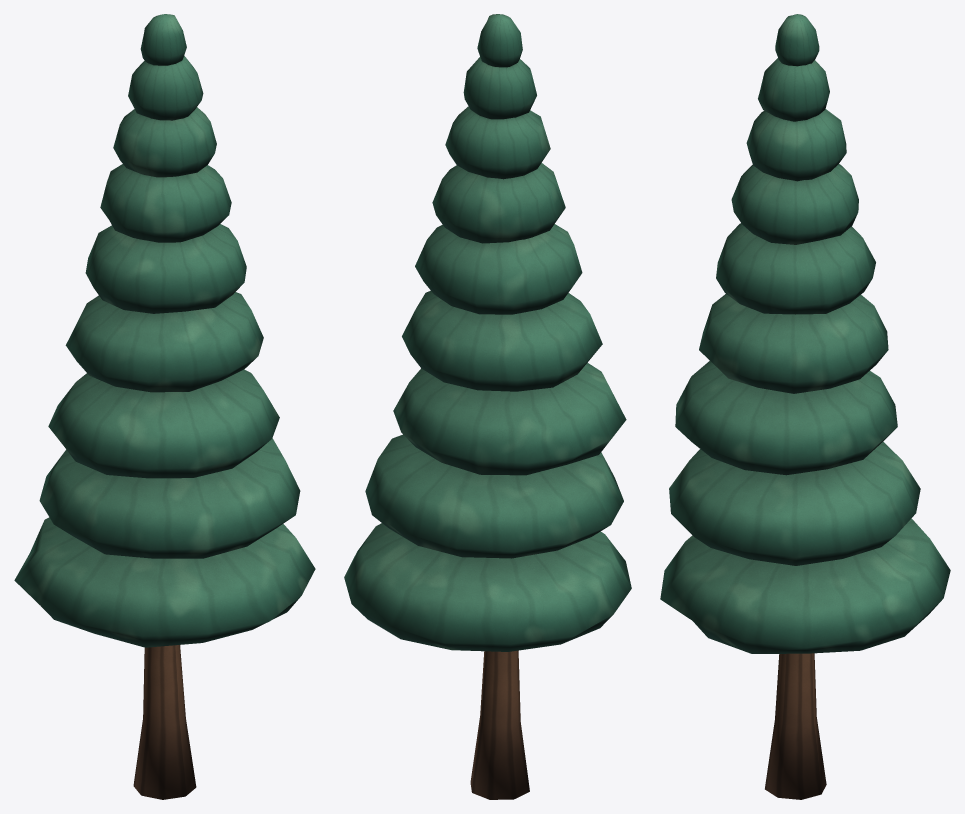
File: Pino_B.fbx
The picture shows the model from 3 angles, left to right: view 1: azimuth 30°, elevation 25°; view 2: azimuth 150°, elevation 25°; view 3: azimuth 270°, elevation 25°; orthographic projection.
Parts seen in each view (by area): view 1: Malla; view 2: Malla; view 3: Malla.
Part boxes in pixels (x1=…): Malla: x1=14, y1=14, x2=315, y2=799; Malla: x1=344, y1=14, x2=631, y2=799; Malla: x1=660, y1=14, x2=950, y2=799.
Bounding box in the file's own units: 4.36 × 12.56 × 4.28.
Materials: 1 (1 with a texture image).
